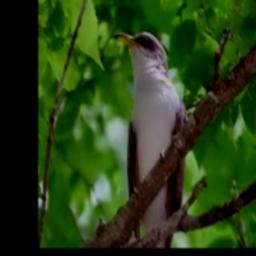Cuckoo: (115, 30, 188, 248)
